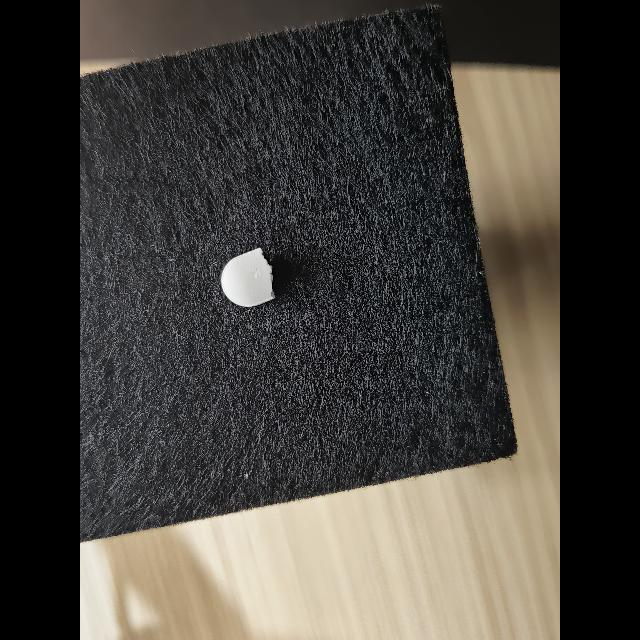Chipped Pill: (221, 247, 275, 307)
